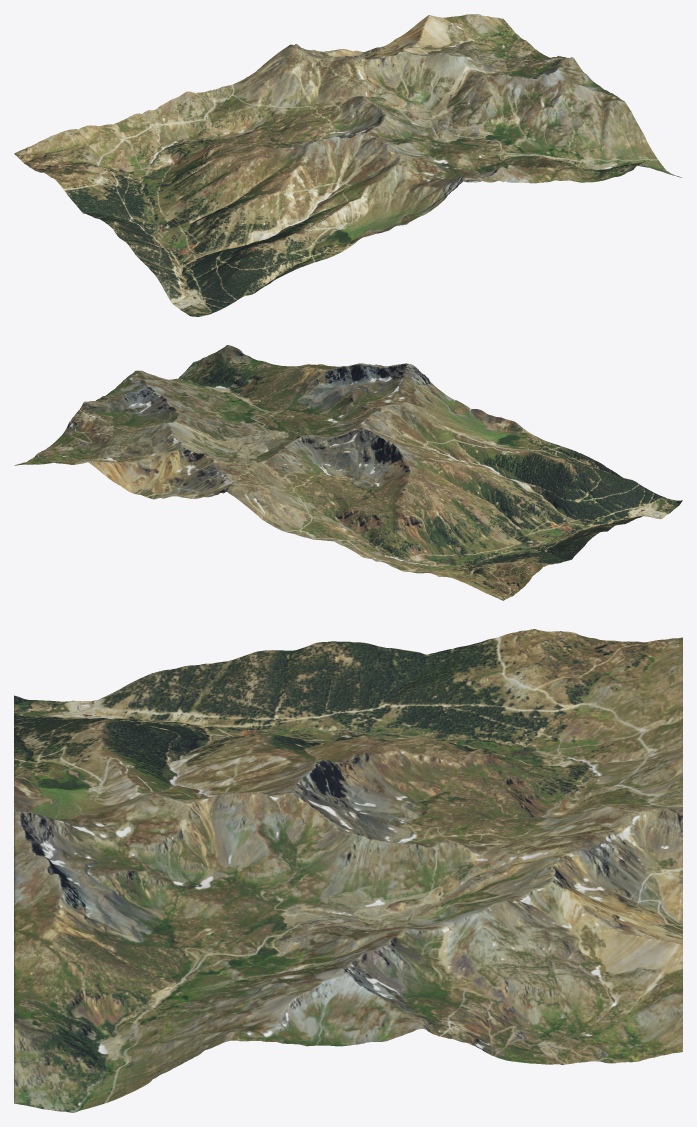
The model's file is new_terrain2.glb.
3 renders of one model, top to bottom at view 1: azimuth 30°, elevation 25°; view 2: azimuth 150°, elevation 25°; view 3: azimuth 270°, elevation 25°, orthographic. The views are drawn at different scales.
Parts seen in each view (by area): view 1: AerialMesh2; view 2: AerialMesh2; view 3: AerialMesh2.
Part boxes in pixels (bbox=[...]): AerialMesh2: bbox=[14, 14, 681, 316]; AerialMesh2: bbox=[14, 345, 682, 600]; AerialMesh2: bbox=[14, 629, 682, 1112].
Bounding box in the file's own units: 62.8 × 9.58 × 40.02.
1 material, 1 textured.
